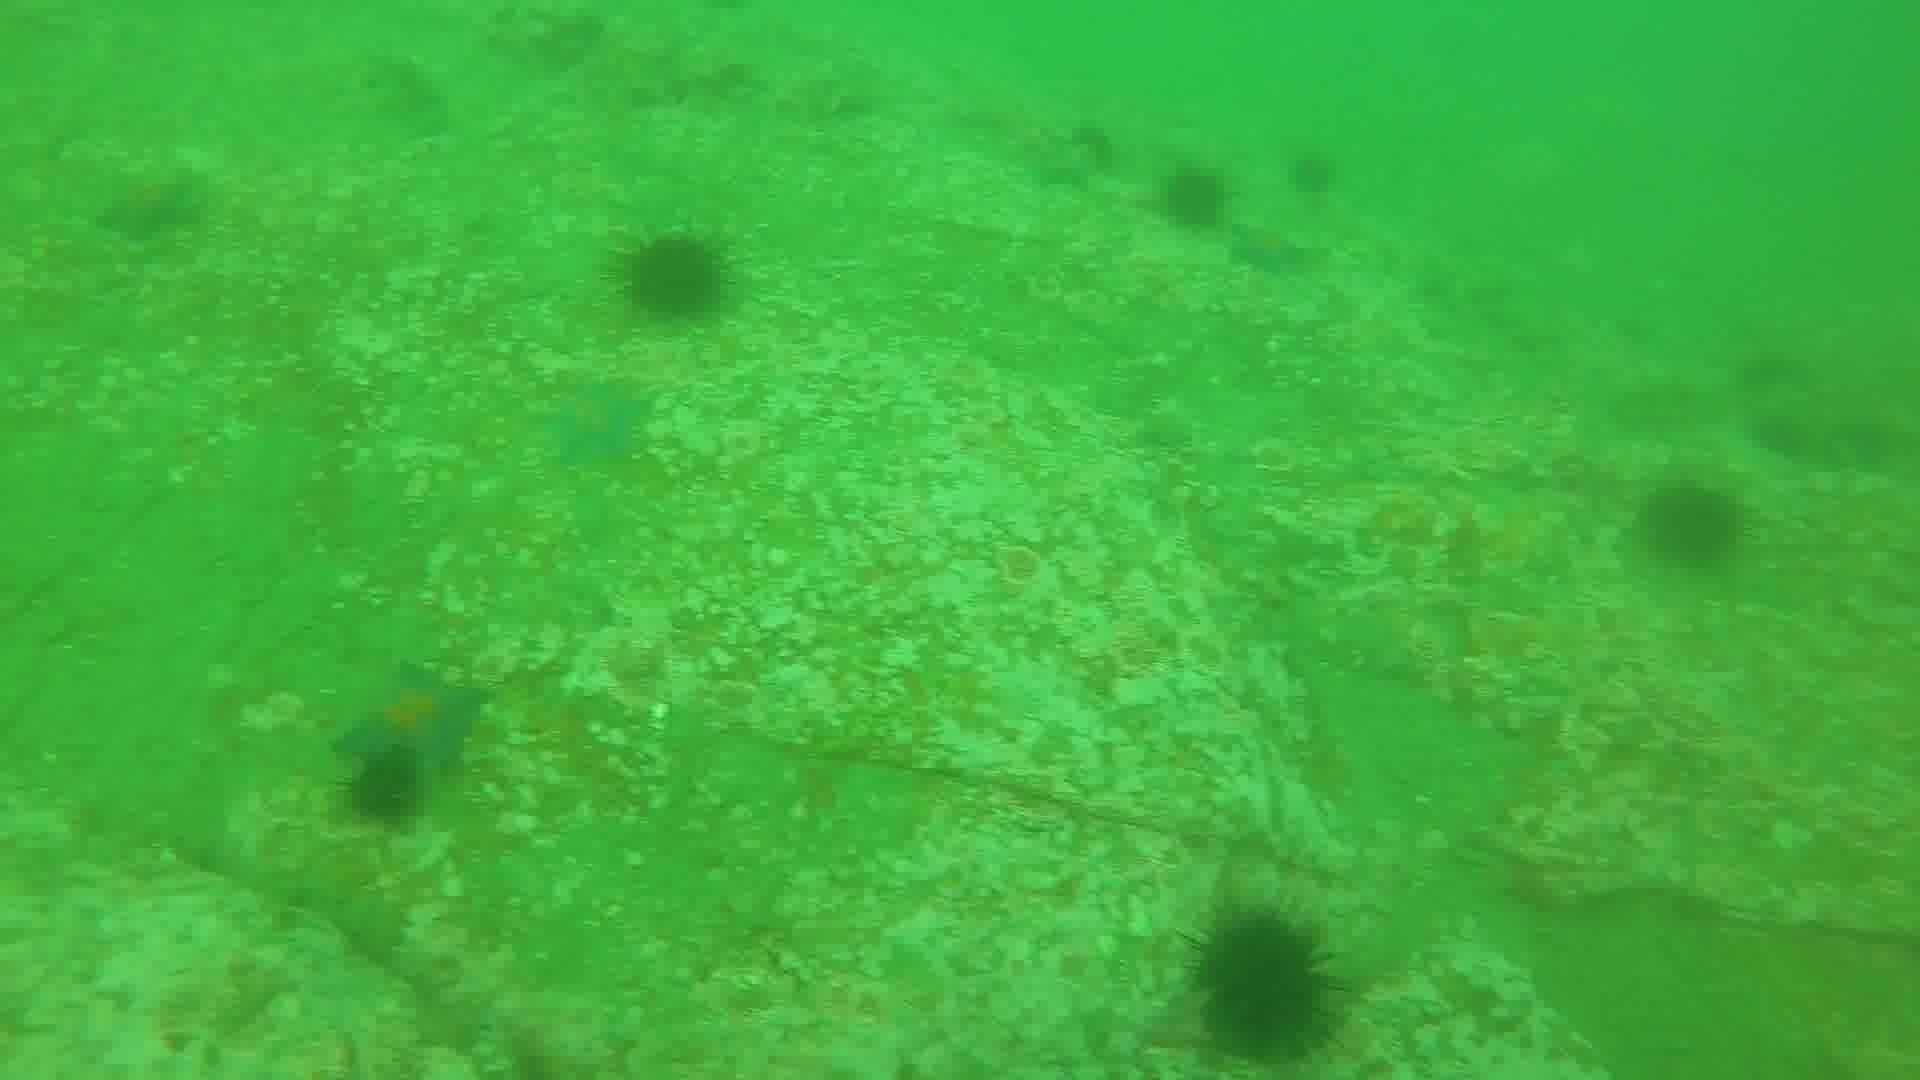echinus: (1182, 907, 1344, 1063), (611, 227, 735, 327), (1635, 476, 1749, 572), (339, 746, 429, 831), (1153, 161, 1234, 236), (1749, 406, 1813, 465), (1283, 144, 1342, 200), (1067, 116, 1121, 173)
starfish: (330, 659, 491, 778), (534, 371, 657, 473), (90, 162, 208, 247), (1224, 218, 1316, 280), (1015, 131, 1102, 195)
